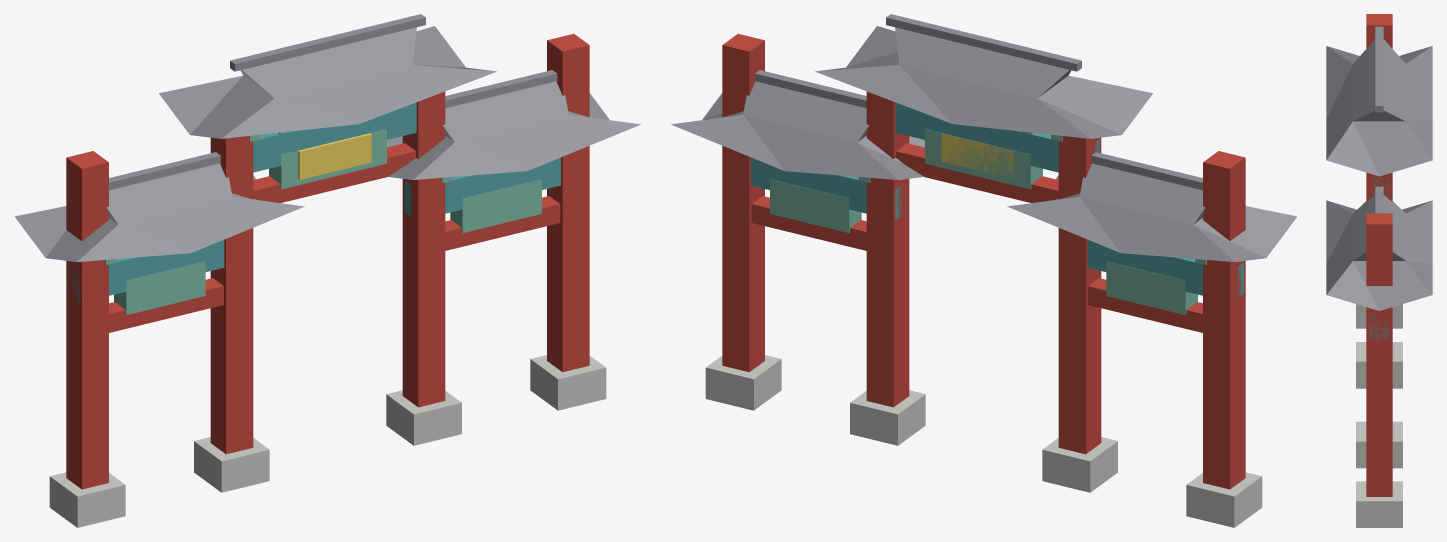
The model's file is cn_paifang.glb.
3 renders of one model, left to right at view 1: azimuth 30°, elevation 25°; view 2: azimuth 150°, elevation 25°; view 3: azimuth 270°, elevation 25°, orthographic. The views are drawn at different scales.
Parts seen in each view (by area): view 1: cn_paifang; view 2: cn_paifang; view 3: cn_paifang.
Boxes of the visible parts, x1,y1,x2,y2 form: cn_paifang: (14, 14, 640, 527); cn_paifang: (671, 14, 1297, 527); cn_paifang: (1326, 14, 1432, 527).
Bounding box in the file's own units: 9.4 × 6.59 × 1.8.
